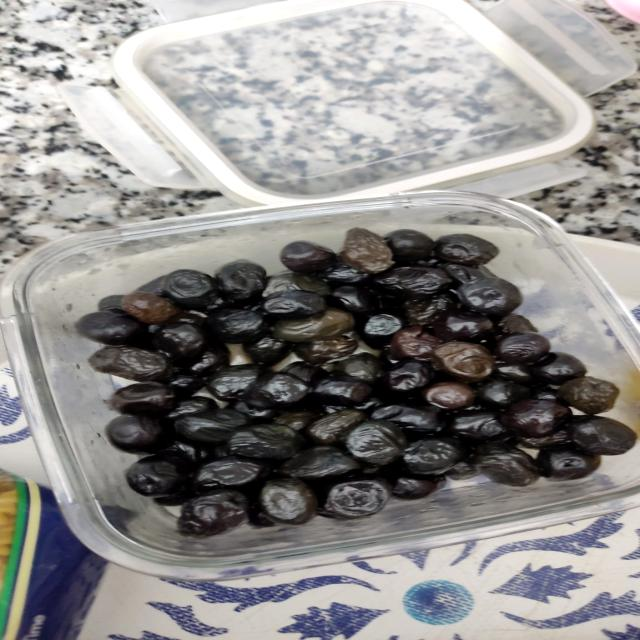olive: (54, 223, 636, 549), (333, 414, 416, 470), (252, 284, 344, 324)
